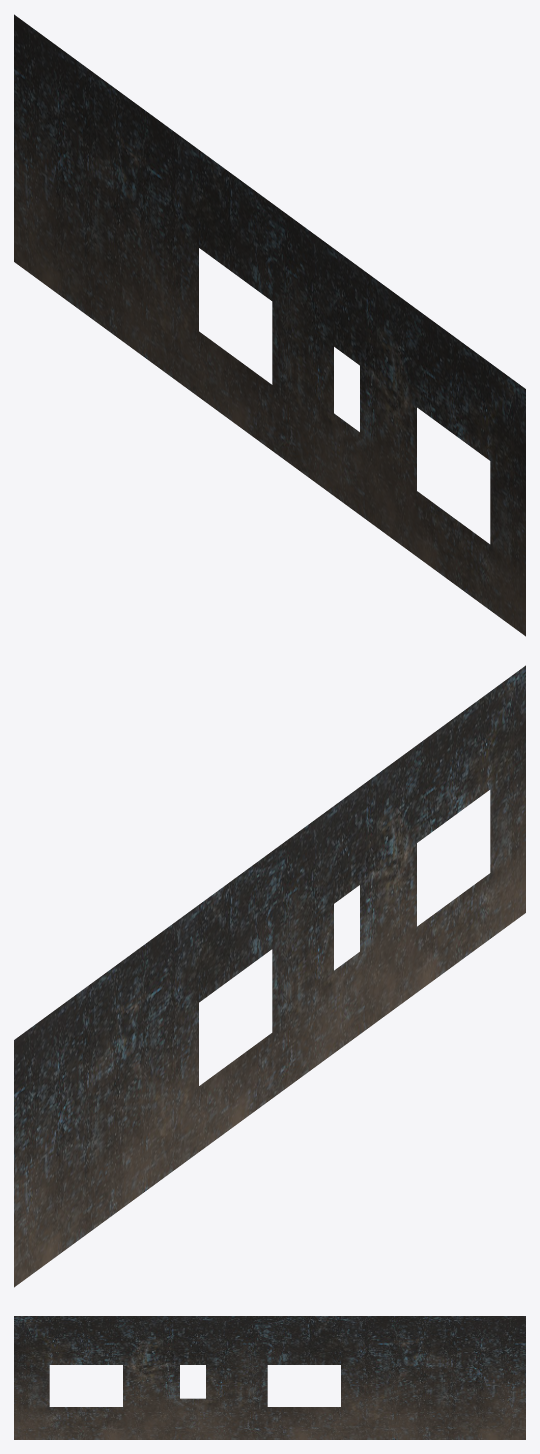
File: Wall_05.FBX
3 renders of one model, top to bottom at view 1: azimuth 30°, elevation 25°; view 2: azimuth 150°, elevation 25°; view 3: azimuth 270°, elevation 25°, orthographic. The views are drawn at different scales.
Parts seen in each view (by area): view 1: Wall_05; view 2: Wall_05; view 3: Wall_05.
Part boxes in pixels (x1,y1,x2,y2): Wall_05: (14,14,525,636); Wall_05: (14,665,525,1287); Wall_05: (14,1316,525,1439).
Bounding box in the file's own units: 0.000312 × 511 × 1917.
